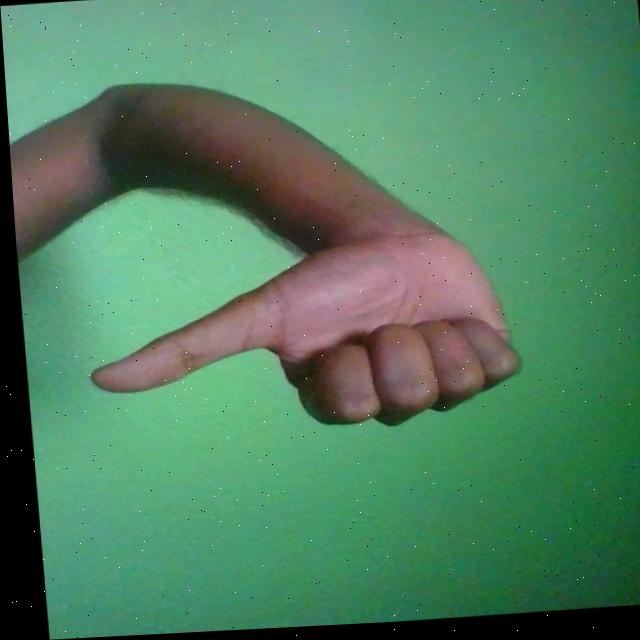Dislike: (73, 219, 521, 449)
